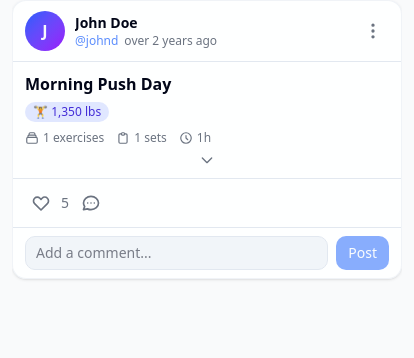
Test case: FeedWorkoutCard › should expand workout details when clicked
Click the workout summary area
What coordinates should you click on to do the following:
click the heading "Morning Push Day"
I would click on:
 (98, 84)
Its box is [25, 73, 171, 95].
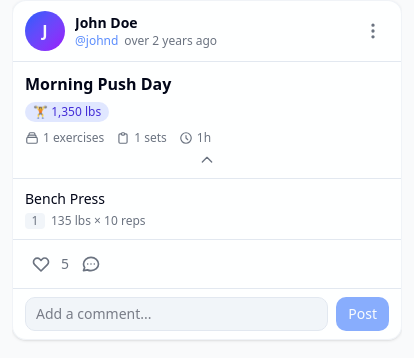
Check: the heading "Bench Press" is shown, box [25, 189, 105, 208]
